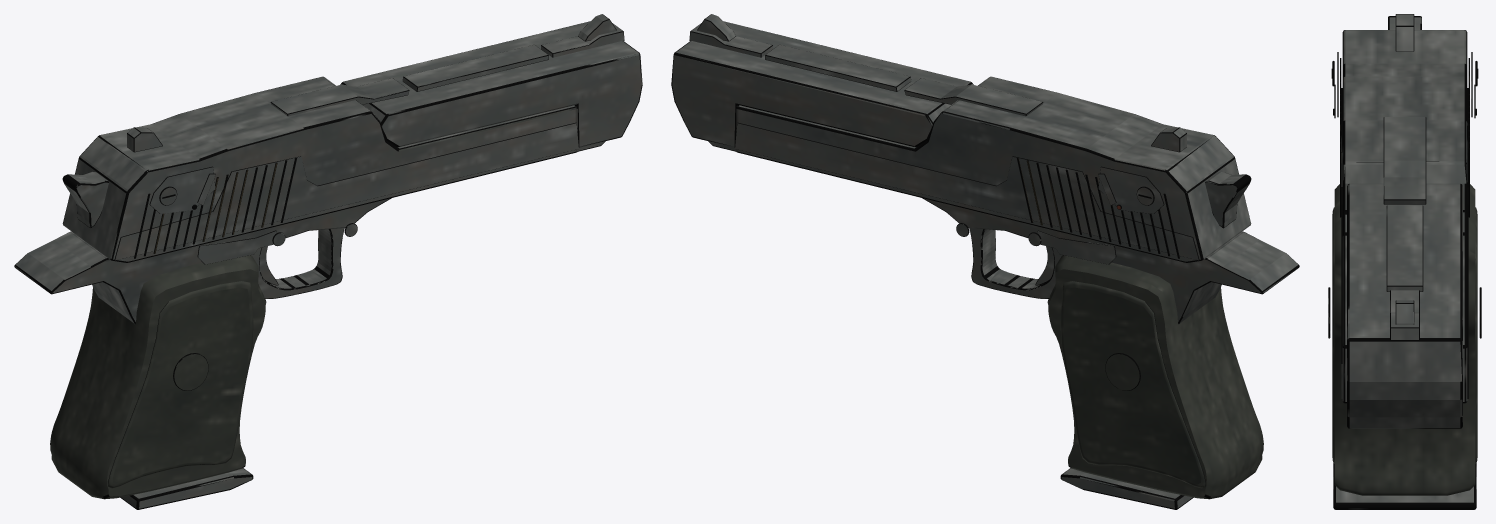
The model's file is desert_eagle_relic.glb.
The picture shows the model from 3 angles, left to right: view 1: azimuth 30°, elevation 25°; view 2: azimuth 150°, elevation 25°; view 3: azimuth 270°, elevation 25°; orthographic projection. The views are drawn at different scales.
Visible parts, largest first — view 1: desert_eagle_relic; view 2: desert_eagle_relic; view 3: desert_eagle_relic.
Boxes of the visible parts, x1,y1,x2,y2 form: desert_eagle_relic: (14,14,642,509); desert_eagle_relic: (671,14,1299,509); desert_eagle_relic: (1328,14,1481,509).
Size of the model in its own units: 0.9973 by 0.5767 by 0.179.
1 material, 1 textured.
